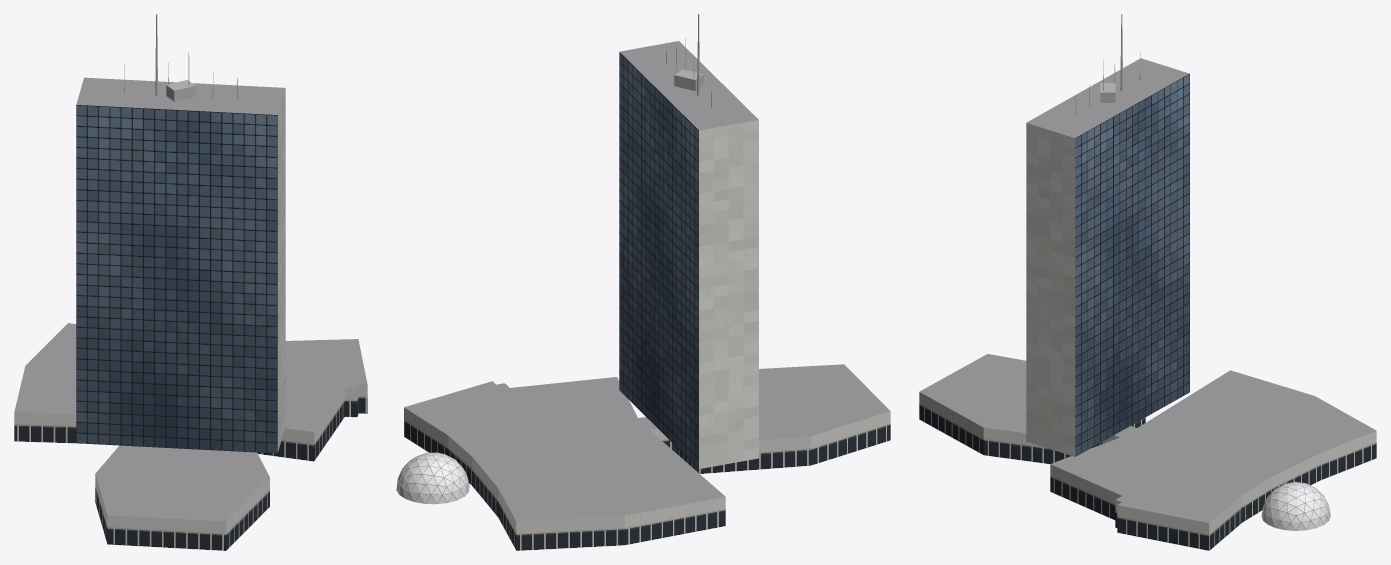
The model's file is lome_hotel2fevrier.glb.
3 views of the same model, side by side, from view 1: azimuth 30°, elevation 25°; view 2: azimuth 150°, elevation 25°; view 3: azimuth 270°, elevation 25° (orthographic). The views are drawn at different scales.
Visible parts, largest first — view 1: hotel_tour, hotel_socle, hotel_antennes; view 2: hotel_tour, hotel_socle, hotel_dome, hotel_antennes; view 3: hotel_tour, hotel_socle, hotel_dome, hotel_antennes.
Part boxes in pixels (box(x1,y1,x2,y2)): hotel_tour: box(76, 77, 285, 453); hotel_socle: box(14, 323, 367, 550); hotel_antennes: box(124, 14, 237, 101); hotel_tour: box(619, 41, 758, 468); hotel_socle: box(404, 364, 890, 550); hotel_dome: box(396, 452, 469, 504); hotel_antennes: box(666, 14, 711, 107); hotel_tour: box(1026, 58, 1189, 456); hotel_socle: box(919, 354, 1376, 550); hotel_dome: box(1261, 482, 1330, 530); hotel_antennes: box(1075, 14, 1140, 115).
Bounding box in the file's own units: 105 × 122 × 120.
Materials: 6 (3 with a texture image).
